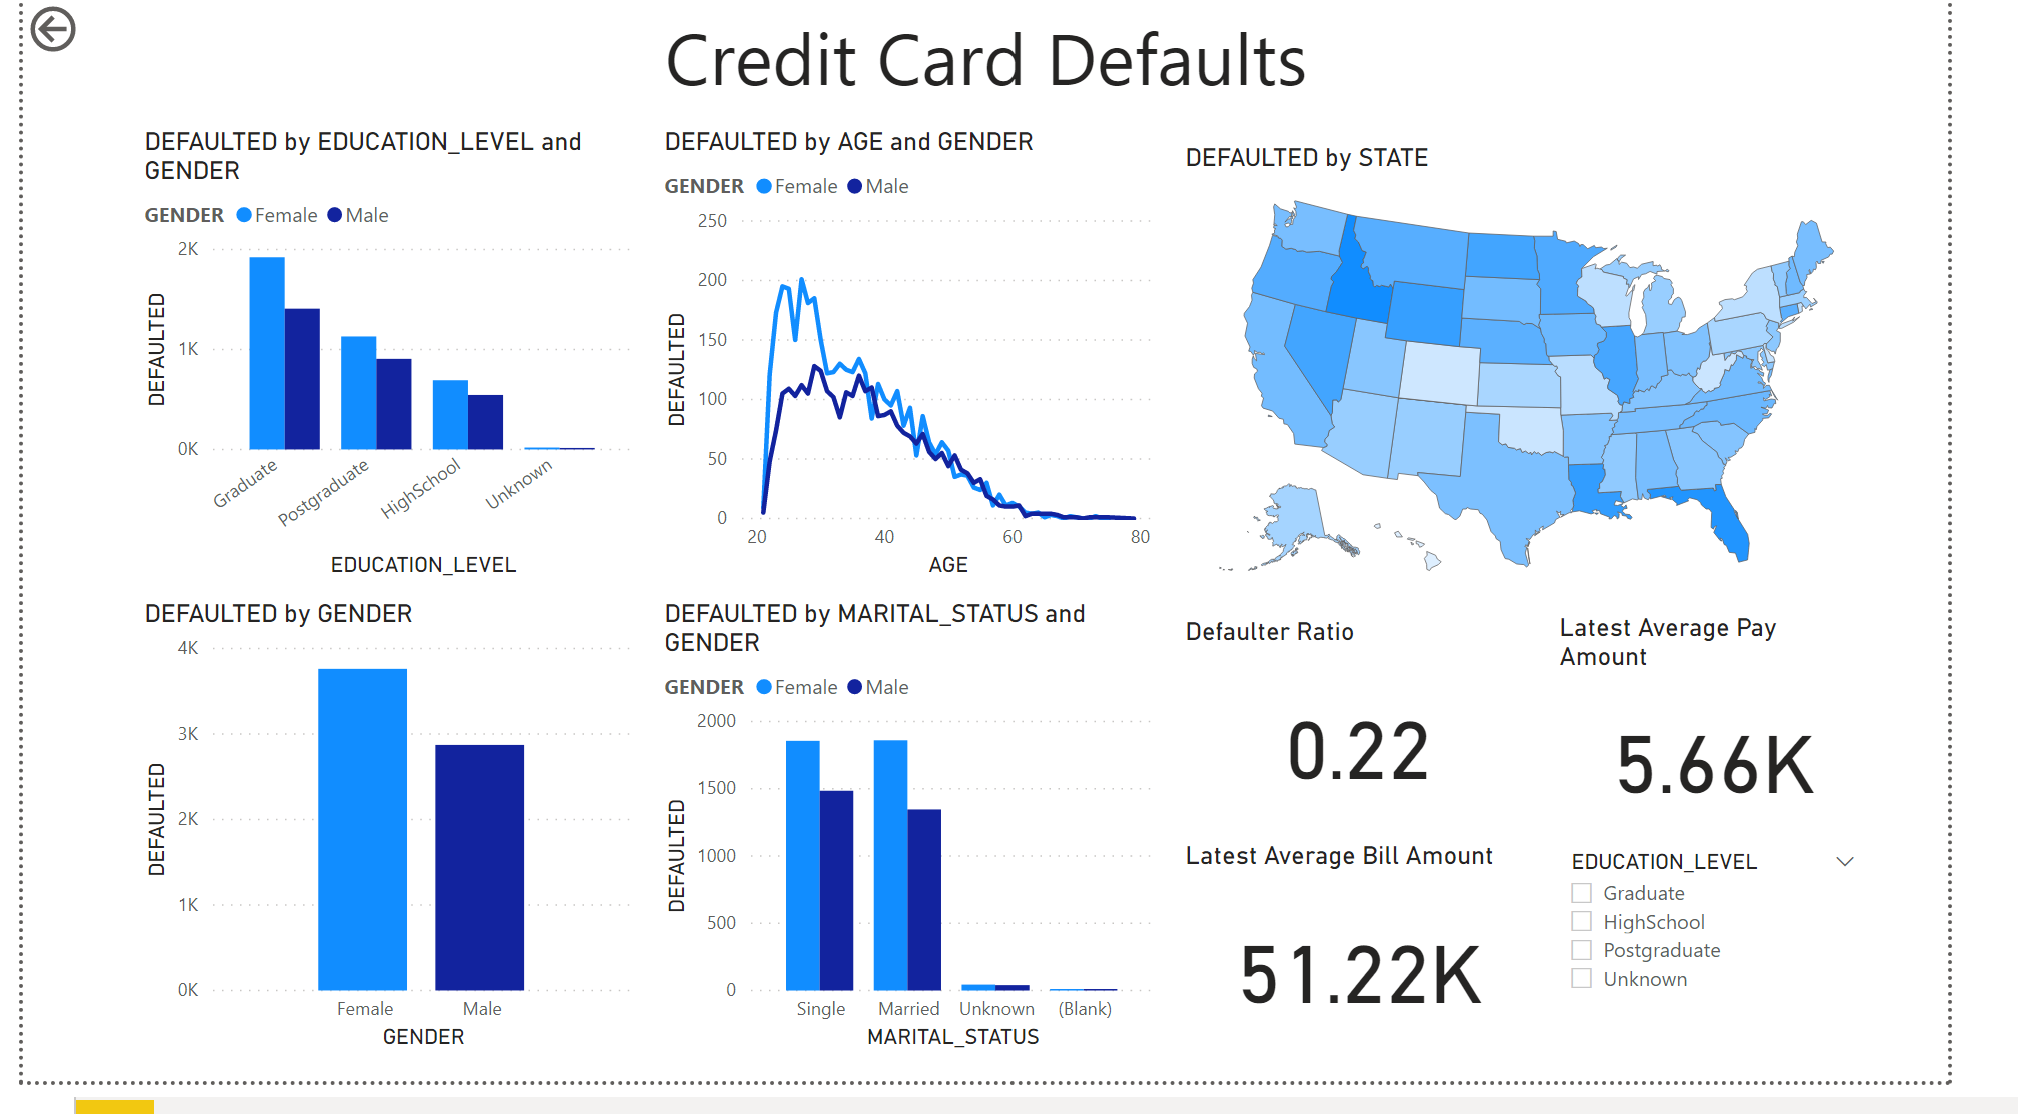

The page's visual inventory and layout, read from the dashboard file:
{"tool":"powerbi","page":{"name":"Page 1","canvas":[1280,720],"ordinal":0},"visuals":[{"type":"clusteredColumnChart","fields":{"Y":["Sum(Data.DEFAULTED)"],"Category":["Data.EDUCATION_LEVEL"],"Series":["Data.GENDER"]},"box":[76.4,85.8,336,304],"z":0},{"type":"clusteredColumnChart","fields":{"Y":["Sum(Data.DEFAULTED)"],"Category":["Data.GENDER"]},"box":[76.4,399.8,336,304],"z":1000},{"type":"lineChart","fields":{"Category":["Data.AGE"],"Y":["Sum(Data.DEFAULTED)"],"Series":["Data.GENDER"]},"box":[422.4,85.8,336,304],"z":2000},{"type":"clusteredColumnChart","fields":{"Y":["Sum(Data.DEFAULTED)"],"Category":["Data.MARITAL_STATUS"],"Series":["Data.GENDER"]},"box":[422.4,399.8,336,304],"z":3000},{"type":"shapeMap","fields":{"Category":["Data.STATE"],"Value":["Sum(Data.DEFAULTED)"]},"box":[768,96,464,304],"z":4000},{"type":"card","title":"Defaulter Ratio","fields":{"Values":["Avg(Data.DEFAULTED)"]},"box":[767.3,411.6,240,144],"z":5000},{"type":"card","title":"Latest Average Bill Amount","fields":{"Values":["Avg(Data.BILL_AMT1)"]},"box":[768,560,240,144],"z":6000},{"type":"textbox","box":[384,0,512,80],"z":7000},{"type":"card","title":"Latest Average Pay Amount","fields":{"Values":["Avg(Data.PAY_AMT1)"]},"box":[1017.3,408.6,214,150],"z":8000},{"type":"actionButton","box":[0,0,100,40],"z":10000},{"type":"slicer","fields":{"Values":["Data.EDUCATION_LEVEL"]},"box":[1017,560,214,150],"z":10001}]}

Visuals, with their boxes in screenshot pixels (x1, y1, x2, y2), scaled from the page's 1280x720 canvas onto the 2018x1114 screenshot:
clusteredColumnChart - Sum(Data.DEFAULTED) x Data.EDUCATION_LEVEL: box(120, 133, 650, 603)
clusteredColumnChart - Sum(Data.DEFAULTED) x Data.GENDER: box(120, 619, 650, 1089)
lineChart - Data.AGE x Sum(Data.DEFAULTED): box(666, 133, 1196, 603)
clusteredColumnChart - Sum(Data.DEFAULTED) x Data.MARITAL_STATUS: box(666, 619, 1196, 1089)
shapeMap - Data.STATE x Sum(Data.DEFAULTED): box(1211, 149, 1942, 619)
"Defaulter Ratio" card: box(1210, 637, 1588, 860)
"Latest Average Bill Amount" card: box(1211, 866, 1589, 1089)
textbox: box(605, 0, 1413, 124)
"Latest Average Pay Amount" card: box(1604, 632, 1941, 864)
actionButton: box(0, 0, 158, 62)
slicer - Data.EDUCATION_LEVEL: box(1603, 866, 1941, 1099)
